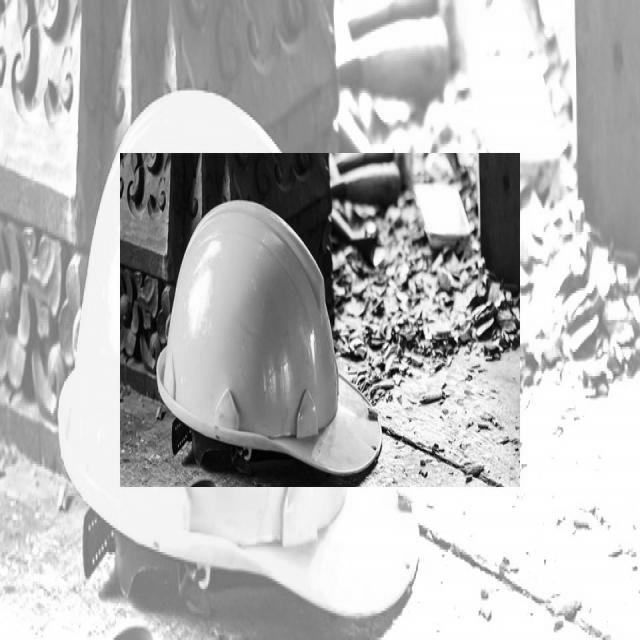construction helmet: (156, 201, 380, 477)
